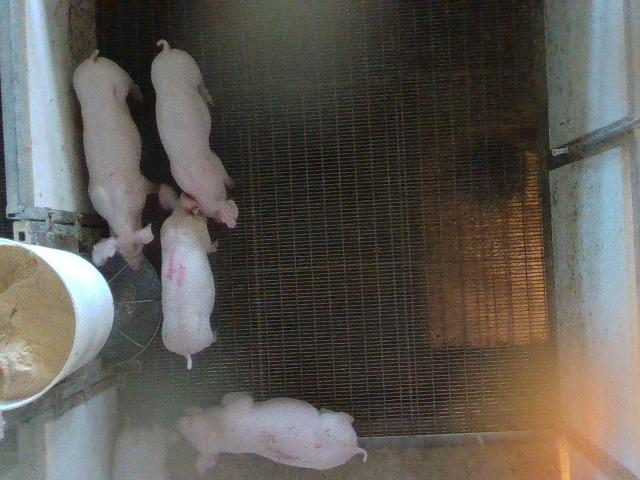pig-1: (179, 392, 368, 473)
pig-4: (159, 184, 215, 368)
